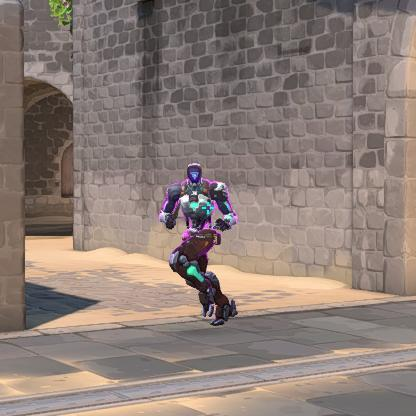enemyBody: (187, 185, 204, 224)
enemyHead: (188, 167, 199, 182)
